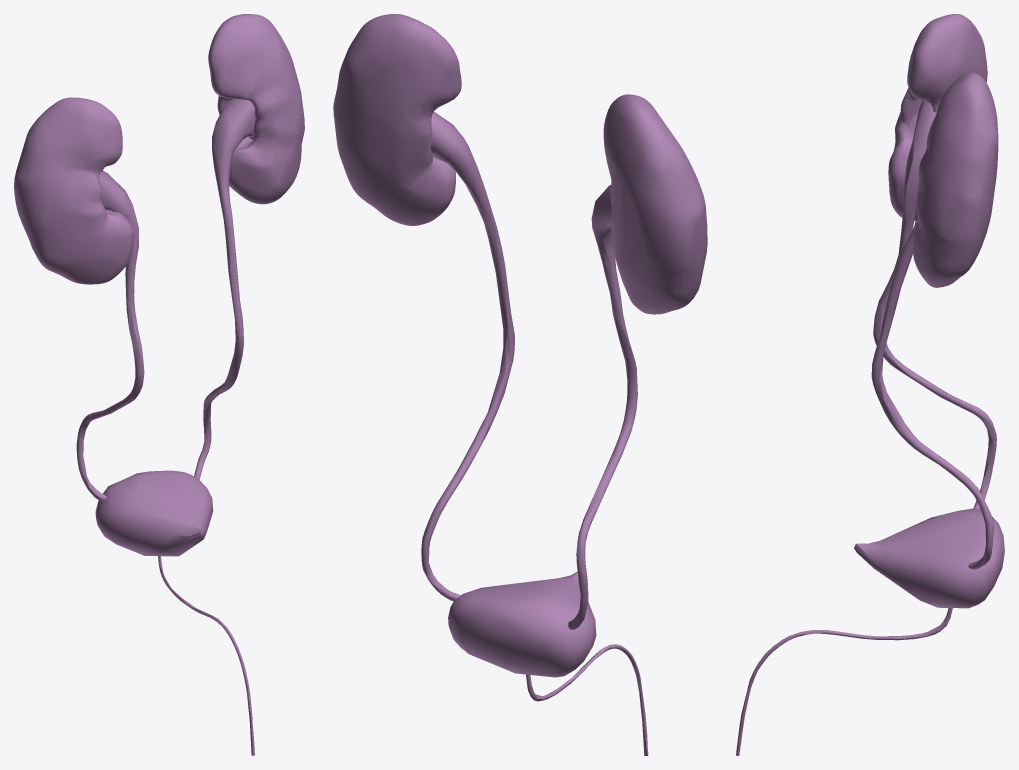
File: urinary.glb
3 renders of one model, left to right at view 1: azimuth 30°, elevation 25°; view 2: azimuth 150°, elevation 25°; view 3: azimuth 270°, elevation 25°, orthographic. The views are drawn at different scales.
Visible parts, largest first — view 1: kidneys, ureters, bladder, urethra; view 2: kidneys, ureters, bladder, urethra; view 3: kidneys, bladder, ureters, urethra.
Part boxes in pixels (x1,y1,x2,y2): kidneys: (14, 14, 304, 284); ureters: (76, 99, 255, 501); bladder: (95, 470, 213, 556); urethra: (158, 556, 254, 755); kidneys: (333, 14, 707, 314); ureters: (421, 111, 637, 629); bladder: (448, 571, 596, 677); urethra: (526, 644, 648, 755); kidneys: (888, 14, 998, 287); bladder: (854, 508, 1004, 608); ureters: (871, 100, 996, 569); urethra: (736, 608, 952, 755).
Bounding box in the file's own units: 0.3559 × 0.7637 × 0.2553.
